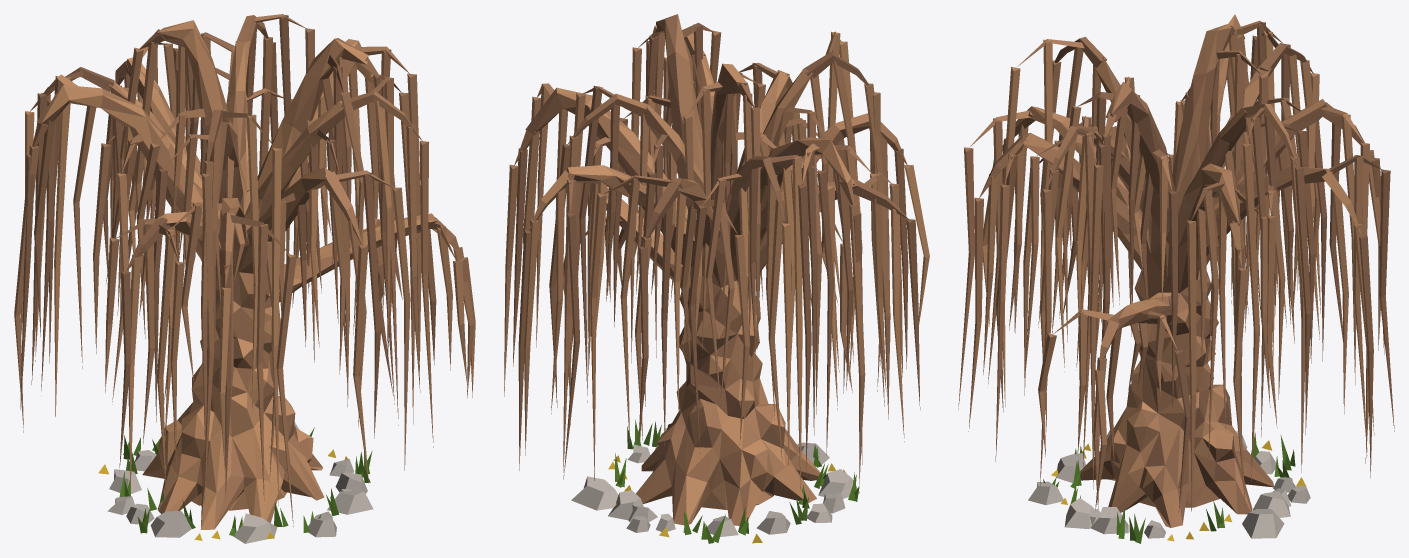
Rendered from giant_willow_bare.glb.
The picture shows the model from 3 angles, left to right: view 1: azimuth 30°, elevation 25°; view 2: azimuth 150°, elevation 25°; view 3: azimuth 270°, elevation 25°; orthographic projection. The views are drawn at different scales.
Parts seen in each view (by area): view 1: giant_willow_bare; view 2: giant_willow_bare; view 3: giant_willow_bare.
Boxes of the visible parts, x1,y1,x2,y2 form: giant_willow_bare: (14, 14, 475, 543); giant_willow_bare: (504, 14, 929, 543); giant_willow_bare: (958, 14, 1394, 543).
Bounding box in the file's own units: 21.85 × 24.8 × 21.85.
